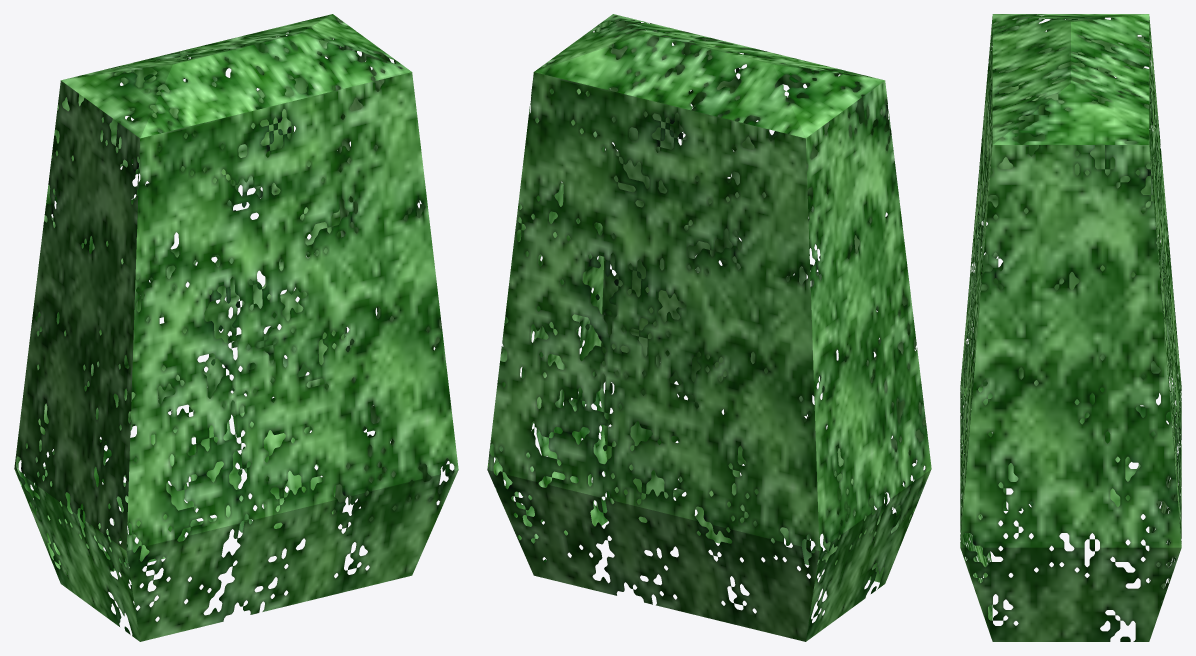
File: bush_tall_half_single_spring.fbx
The picture shows the model from 3 angles, left to right: view 1: azimuth 30°, elevation 25°; view 2: azimuth 150°, elevation 25°; view 3: azimuth 270°, elevation 25°; orthographic projection.
Parts seen in each view (by area): view 1: bush_tall_half_single_spring; view 2: bush_tall_half_single_spring; view 3: bush_tall_half_single_spring.
Boxes of the visible parts, box(x1,y1,x2,y2) form: bush_tall_half_single_spring: box(14, 14, 458, 641); bush_tall_half_single_spring: box(487, 14, 931, 641); bush_tall_half_single_spring: box(960, 14, 1181, 641).
Size of the model in its own units: 123 by 188 by 71.91.
Materials: 1 (1 with a texture image).
